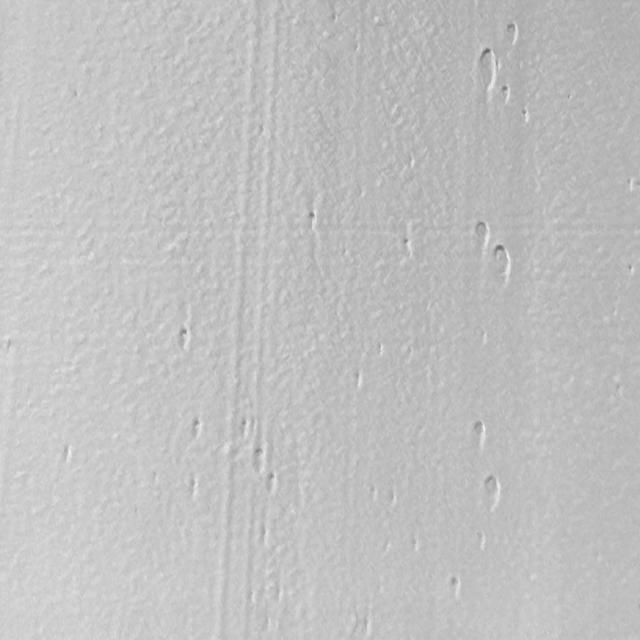pin holes: (487, 242, 512, 285), (478, 472, 503, 509), (476, 48, 498, 82), (471, 219, 492, 251), (469, 417, 490, 448), (352, 614, 375, 638), (186, 415, 205, 443), (302, 209, 322, 235), (249, 448, 267, 476), (236, 416, 255, 442), (176, 323, 194, 350), (502, 21, 520, 47), (446, 575, 464, 601), (2, 334, 20, 359), (365, 485, 383, 507), (398, 237, 415, 260), (185, 476, 200, 499), (266, 470, 280, 494), (474, 531, 489, 553), (352, 370, 366, 389), (500, 85, 512, 106), (520, 106, 531, 126), (375, 341, 387, 358), (625, 262, 636, 278)
